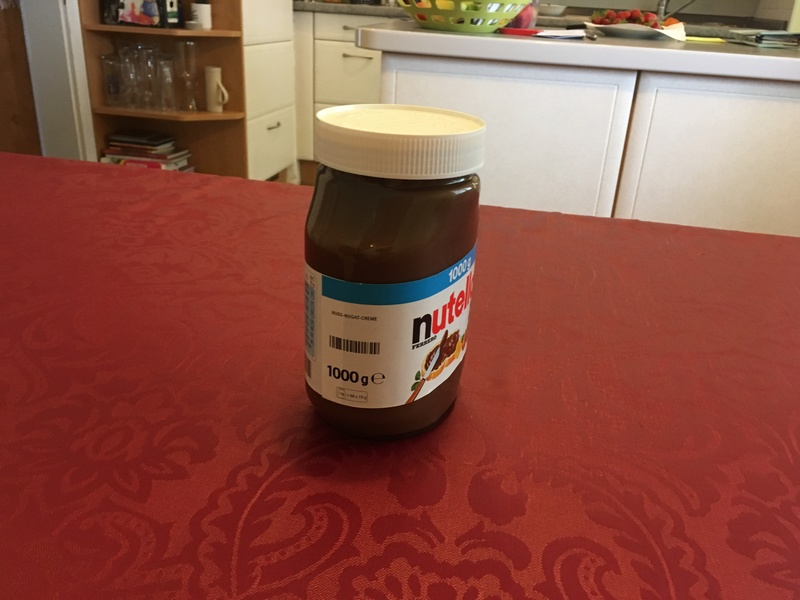nutella: (304, 103, 487, 442)
